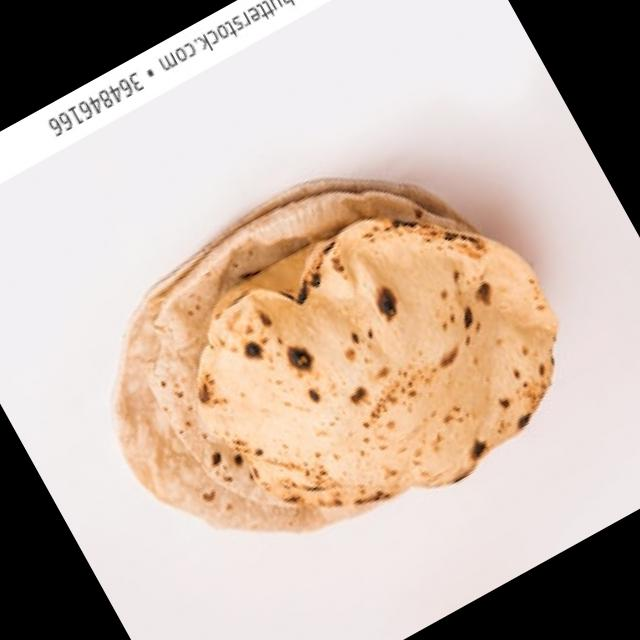roti: (118, 174, 558, 536)
